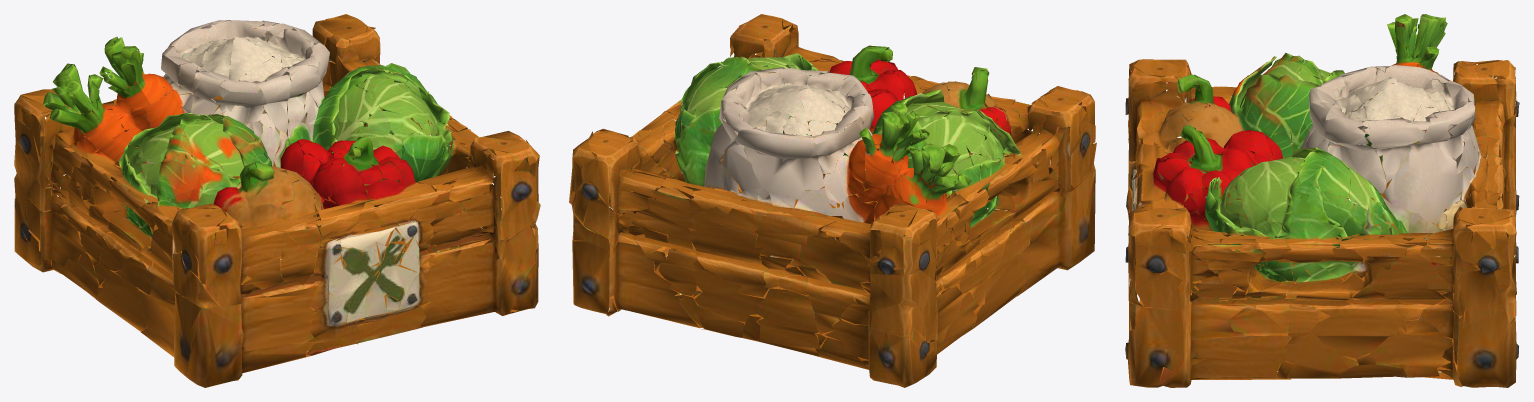
The model's file is plugin_crate.glb.
3 renders of one model, left to right at view 1: azimuth 30°, elevation 25°; view 2: azimuth 150°, elevation 25°; view 3: azimuth 270°, elevation 25°, orthographic. The views are drawn at different scales.
Parts seen in each view (by area): view 1: Mesh_0; view 2: Mesh_0; view 3: Mesh_0.
Part boxes in pixels (left/top/right/bottom): Mesh_0: left=14, top=14, right=540, bottom=387; Mesh_0: left=569, top=14, right=1096, bottom=387; Mesh_0: left=1125, top=14, right=1519, bottom=387.
Bounding box in the file's own units: 1 × 0.6254 × 0.9469.
Materials: 1 (1 with a texture image).
